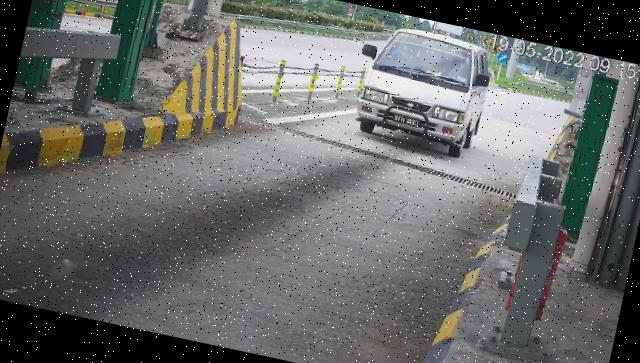License_Plate: (391, 113, 424, 131)
van: (351, 22, 498, 162)
